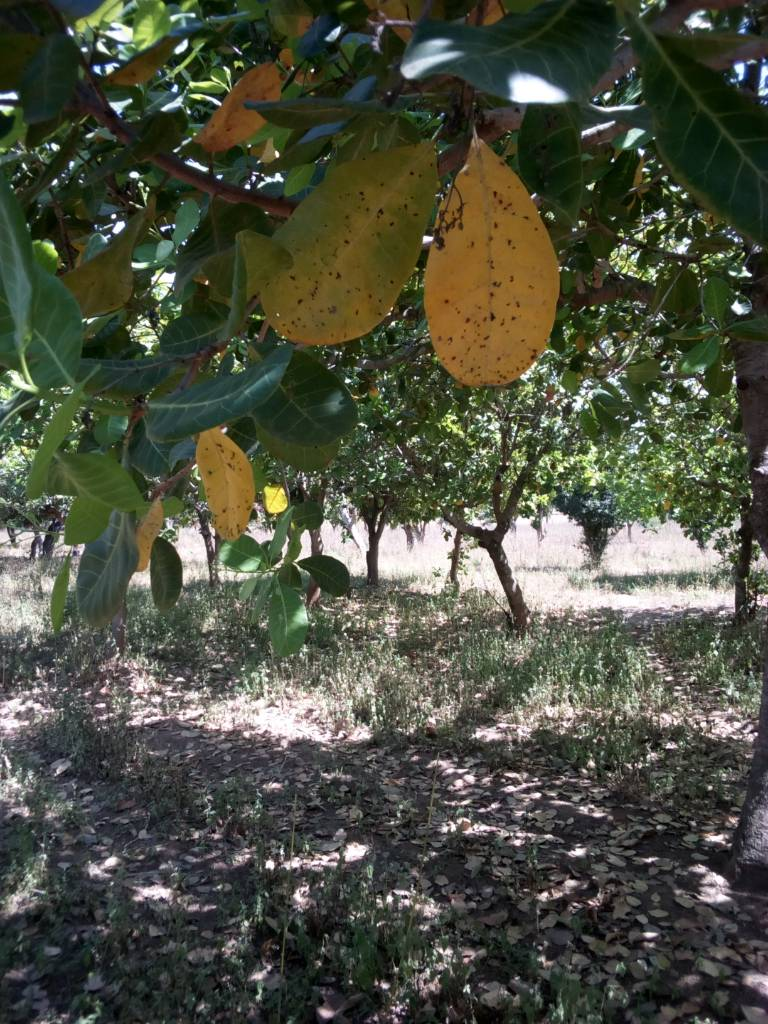Anthracnose: (243, 139, 430, 349), (422, 138, 555, 391), (197, 60, 290, 147), (197, 428, 257, 542)
